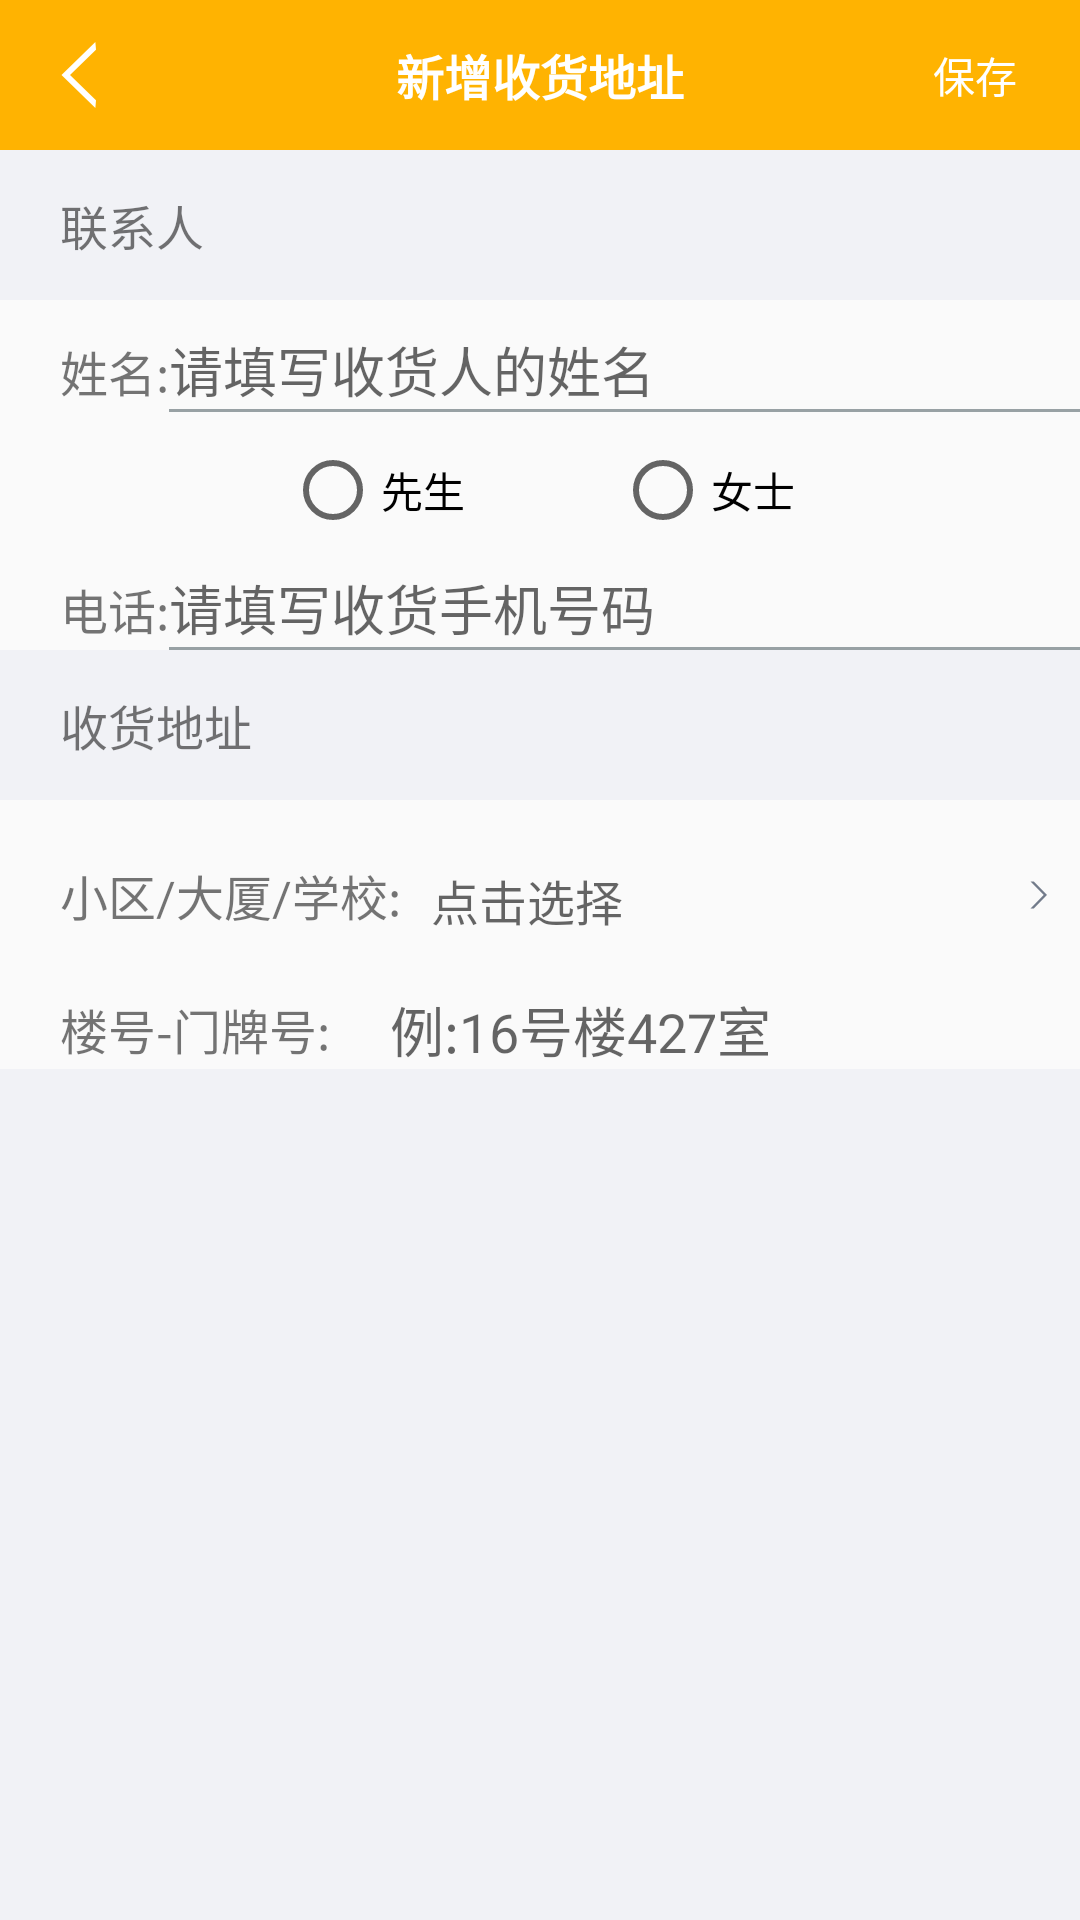

Point at icon controls on the screen. Image size 1080 × 1920, points as point (x, y).
back: point (78, 75)
page go: point (1039, 895)
